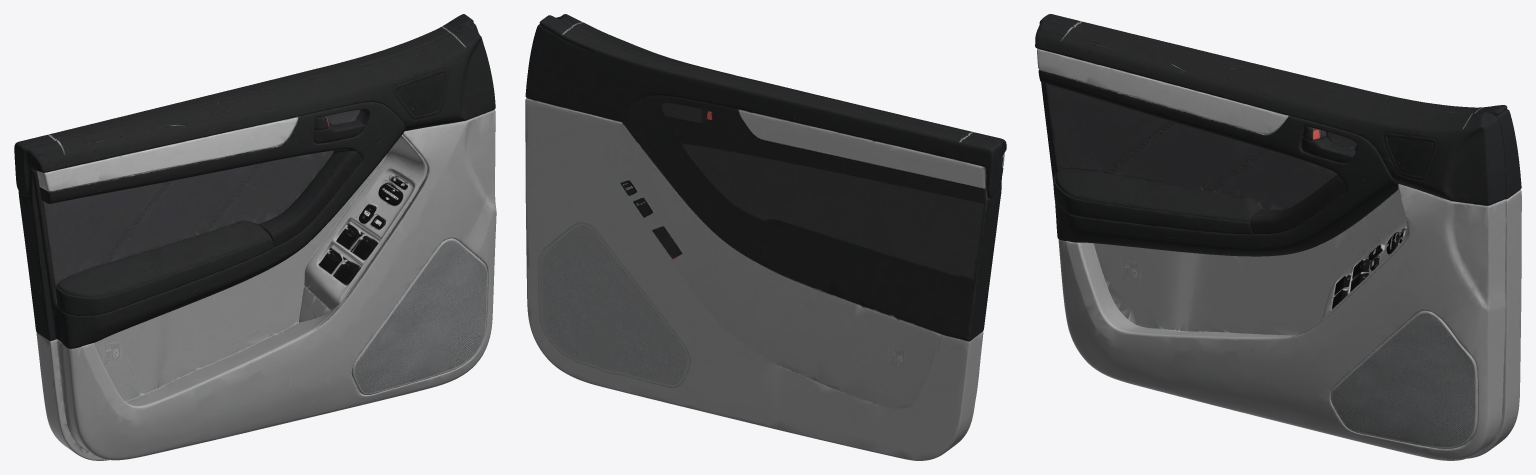
The model's file is doorcard.glb.
The picture shows the model from 3 angles, left to right: view 1: azimuth 30°, elevation 25°; view 2: azimuth 150°, elevation 25°; view 3: azimuth 330°, elevation 25°; orthographic projection.
Bounding box in the file's own units: 1.9 × 1.37 × 0.2395.
1 material, 1 textured.
